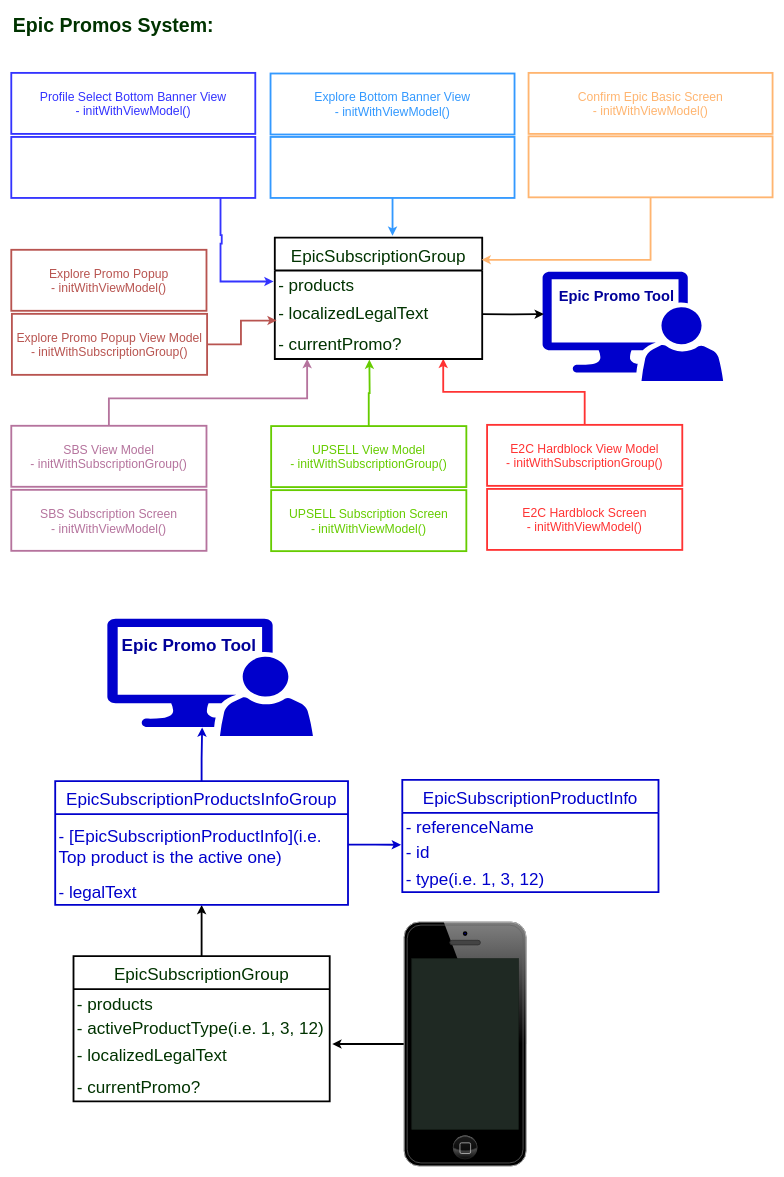
Some shapes in this 784 by 1177 pixel diagram are drawn without their labels. Here are the shapes that lost their labels. From the top down, the centre of each, then its label:
(133,167): Profile Select Bottom Banner View Model - initWithSubscriptionGroup()
(392,167): Explore Bottom Banner View Model - initWithSubscriptionGroup()
(650,166): Confirm Epic Basic Screen View Model - initWithSubscriptionGroup()
